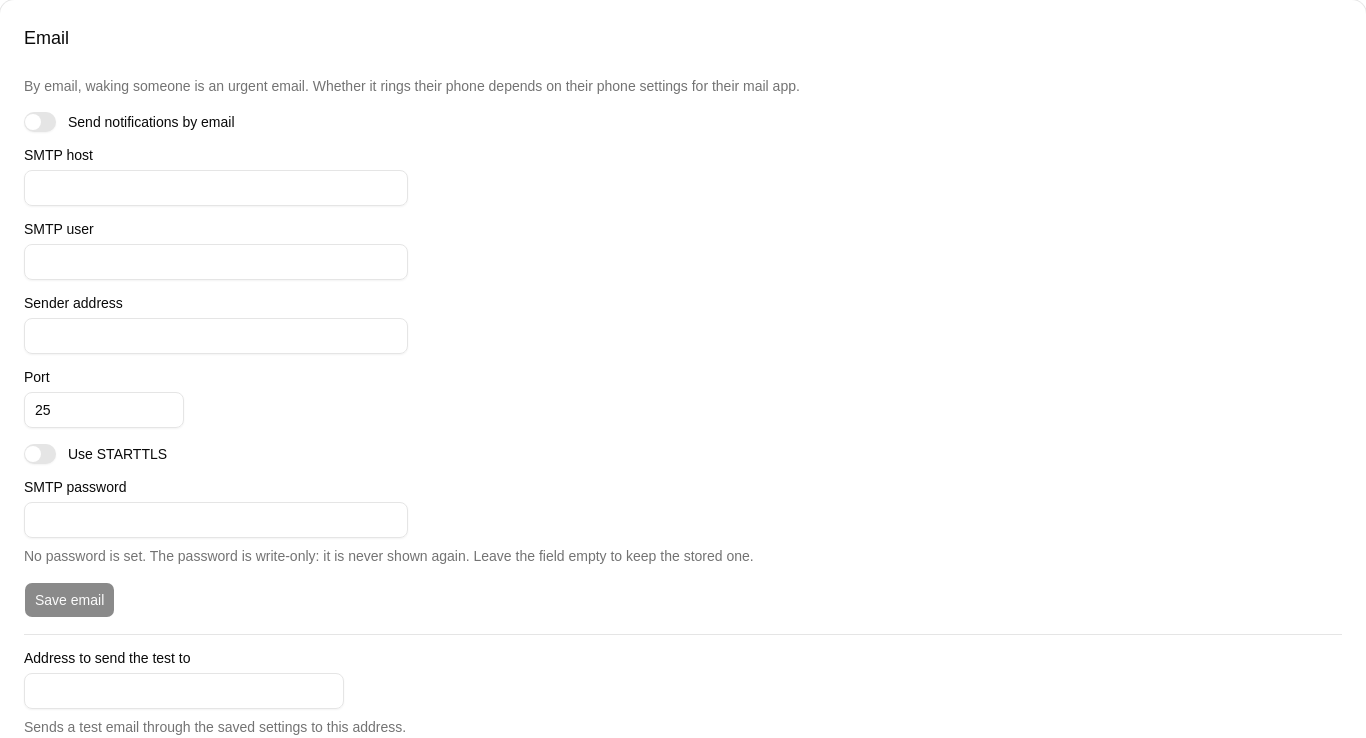
Test: shows the server's message and the failing field for a rejected save
Click the switch named "Use STARTTLS": (40, 454) [24,444,56,464]
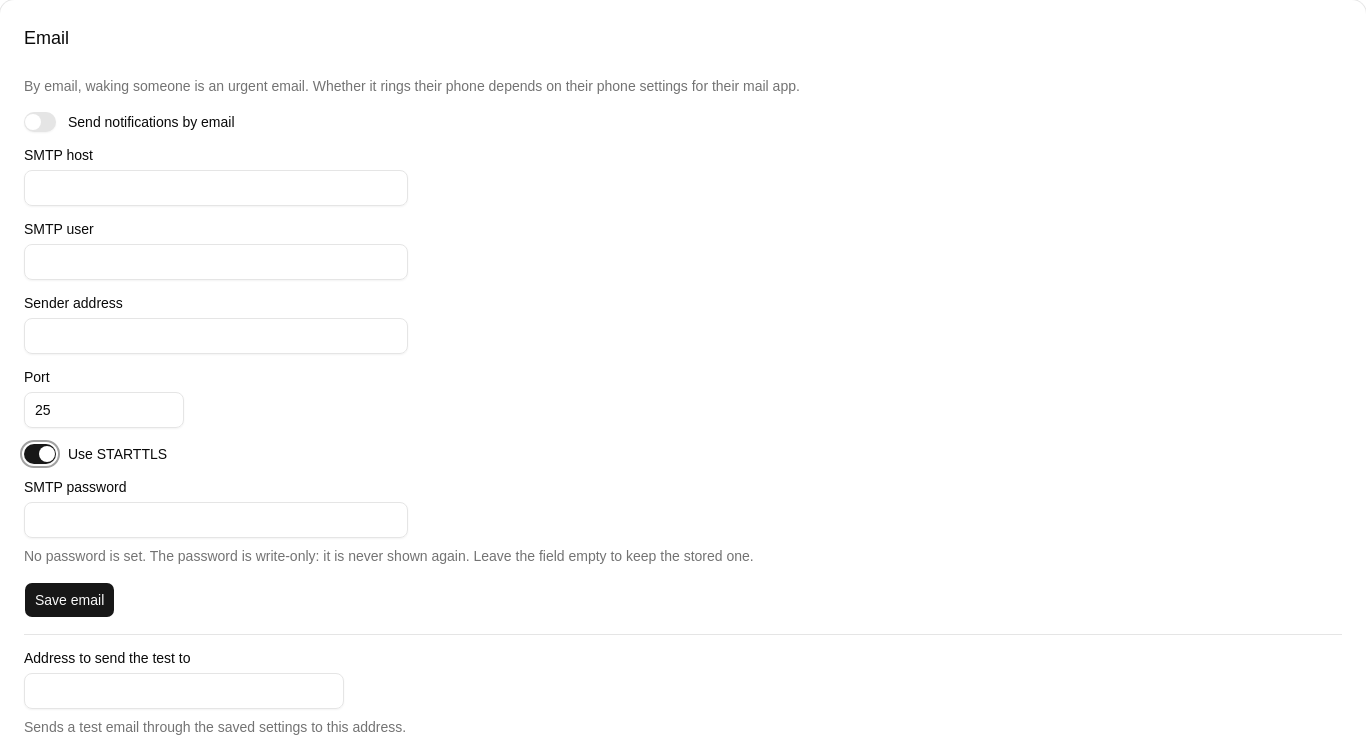
Click the button "Save email": (70, 600) [24,582,115,618]
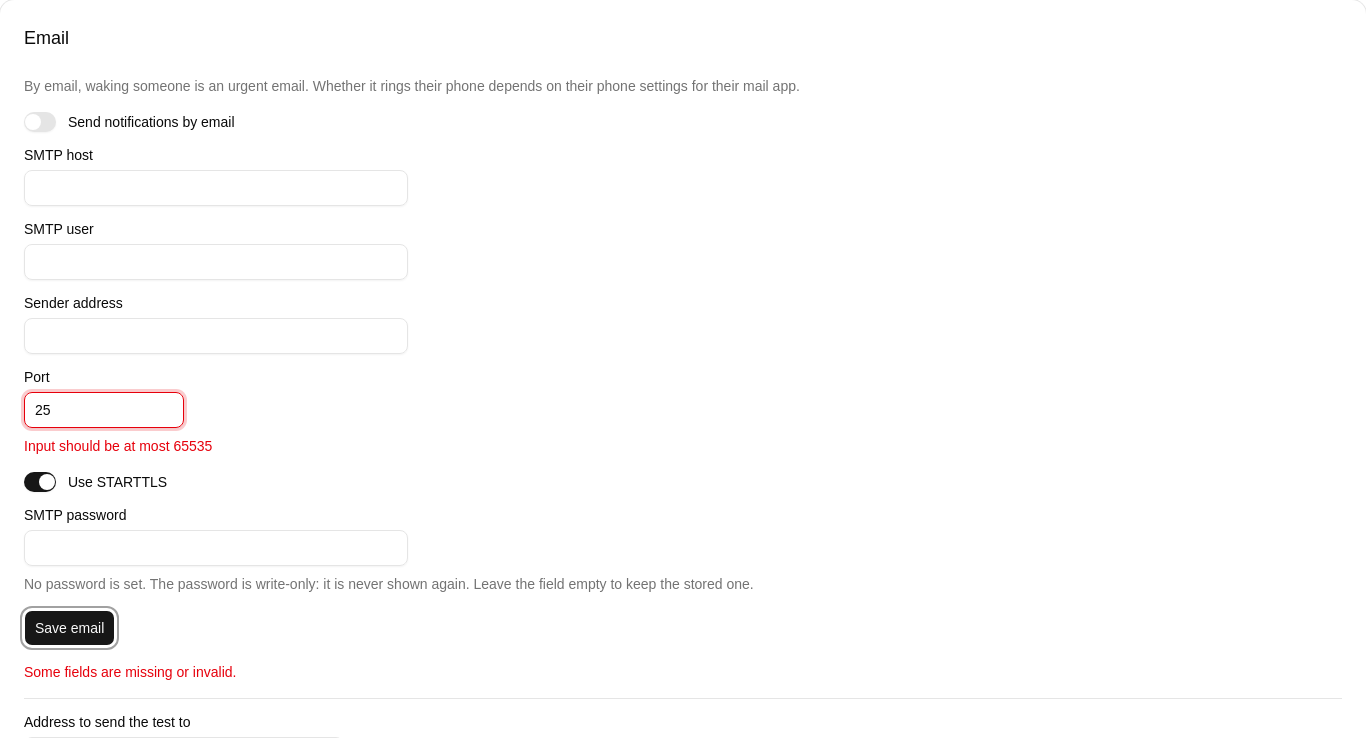
Expected: the message reads "Some fields are missing or invalid.", [24,664,236,680]
Expected: the text "Input should be at most 65535" is shown, [24,438,212,454]
